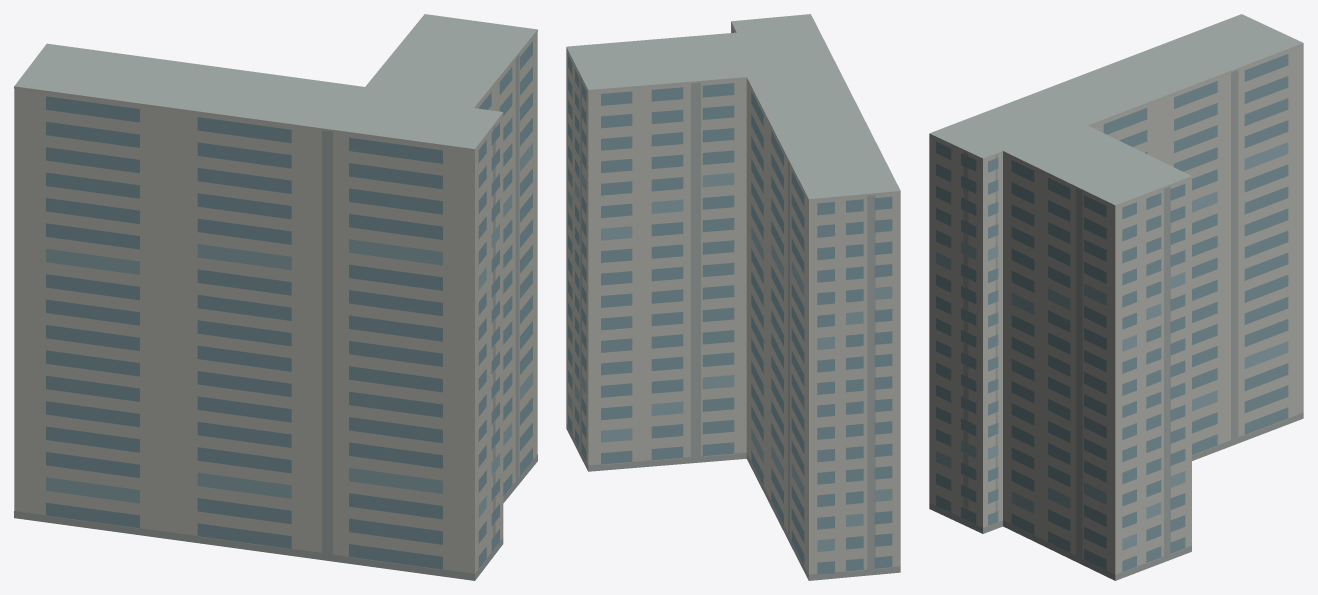
File: residential-00fc479b-f7bc-45bf-85d6-2bd1a075300b.glb
3 views of the same model, side by side, from view 1: azimuth 30°, elevation 25°; view 2: azimuth 150°, elevation 25°; view 3: azimuth 270°, elevation 25° (orthographic). The views are drawn at different scales.
Parts seen in each view (by area): view 1: residential-00fc479b-f7bc-45bf-85d6-2bd1a075300b.tmp; view 2: residential-00fc479b-f7bc-45bf-85d6-2bd1a075300b.tmp; view 3: residential-00fc479b-f7bc-45bf-85d6-2bd1a075300b.tmp.
Part boxes in pixels (<box>): residential-00fc479b-f7bc-45bf-85d6-2bd1a075300b.tmp: <box>14,14,537,580</box>; residential-00fc479b-f7bc-45bf-85d6-2bd1a075300b.tmp: <box>566,14,900,580</box>; residential-00fc479b-f7bc-45bf-85d6-2bd1a075300b.tmp: <box>929,14,1303,580</box>.
Size of the model in its own units: 53.58 by 49 by 44.29.
